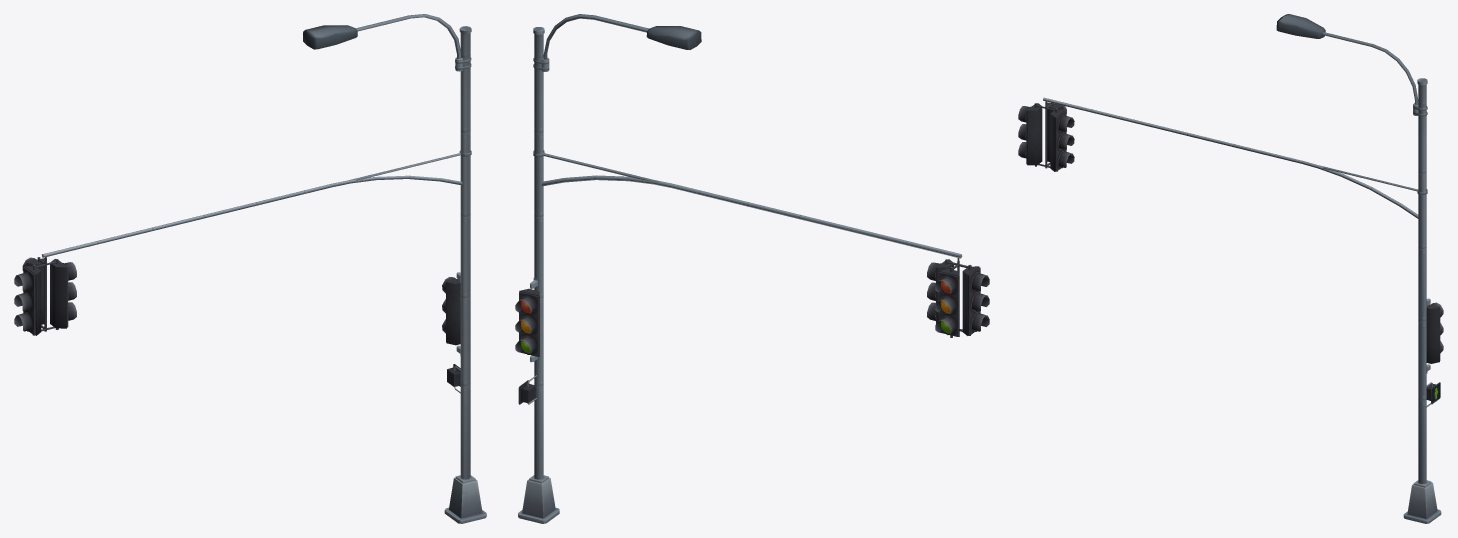
The model's file is Traffic_Lights2_LOD1.fbx.
3 views of the same model, side by side, from view 1: azimuth 30°, elevation 25°; view 2: azimuth 150°, elevation 25°; view 3: azimuth 330°, elevation 25° (orthographic). The views are drawn at different scales.
Parts seen in each view (by area): view 1: traffic_lights_2_Mesh2; view 2: traffic_lights_2_Mesh2; view 3: traffic_lights_2_Mesh2.
Boxes of the visible parts, x1,y1,x2,y2 form: traffic_lights_2_Mesh2: (14, 14, 486, 523); traffic_lights_2_Mesh2: (515, 14, 989, 523); traffic_lights_2_Mesh2: (1018, 14, 1443, 523).
Size of the model in its own units: 696 by 750 by 63.42.
